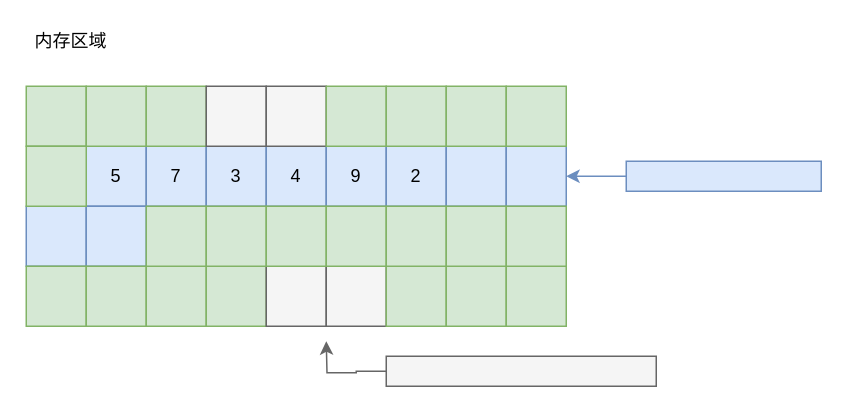
The diagram is 848 pixels wide and 413 high, and some of its shapes have lost their labels. The shapes that lost their labels are listed below. From the top down, each one's box as (x1, y1, x2, y2) in pixels, then its label:
(625, 160, 821, 191): 数组申请到的连续区域
(385, 355, 656, 386): 已经被别的数据申请的区域
